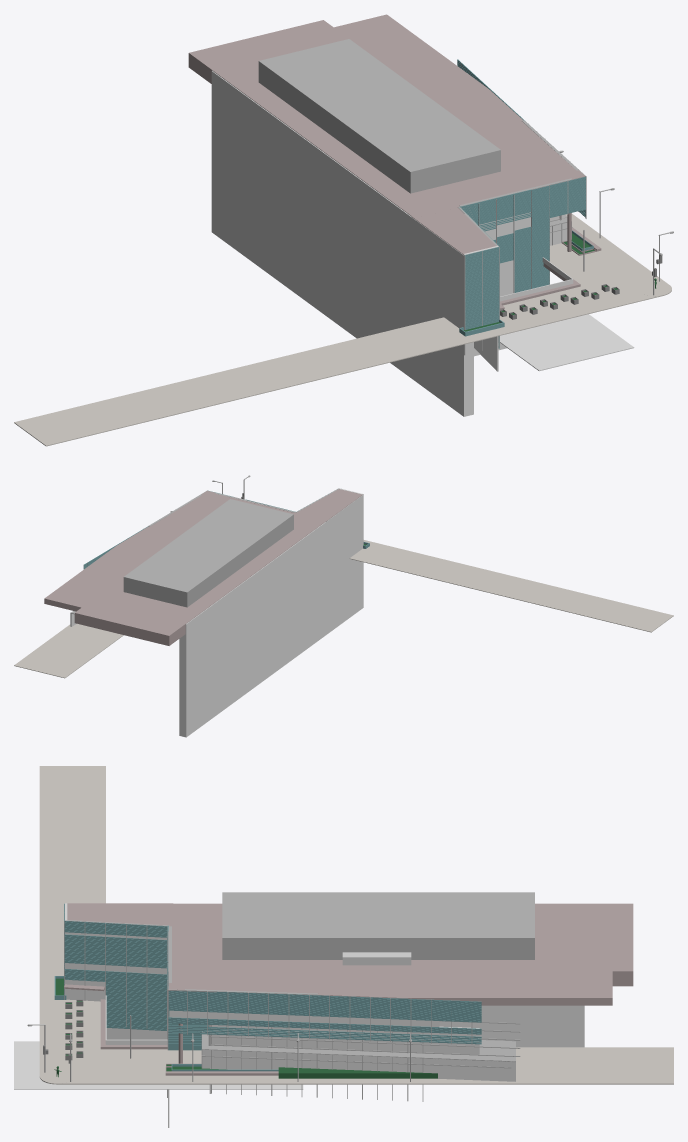
Rendered from banq01 (1).fbx.
The picture shows the model from 3 angles, top to bottom: view 1: azimuth 30°, elevation 25°; view 2: azimuth 150°, elevation 25°; view 3: azimuth 270°, elevation 25°; orthographic projection. The views are drawn at different scales.
Parts seen in each view (by area): view 1: Cube.085, Cube.065, Cube, Cube.019, Cube.022, Cube.021, Cube.001, Cube.027, Cube.018, Cube.041, Cube.031, Cube.053 (+1 smaller); view 2: Cube.085, Cube.065, Cube, Cube.019, Cube.022, Cube.001, Cube.018; view 3: Cube.065, Cube, Cube.019, Cube.001, Cube.022, Cube.048, Cube.068, Cube.085, Cube.055, Cube.026, Cube.025, Cube.021 (+15 smaller).
Boxes of the visible parts, bbox=[...] form: Cube.085: bbox=[211, 70, 473, 416]; Cube.065: bbox=[258, 39, 500, 193]; Cube: bbox=[14, 287, 664, 446]; Cube.019: bbox=[188, 20, 549, 217]; Cube.022: bbox=[334, 14, 585, 185]; Cube.021: bbox=[500, 314, 634, 371]; Cube.001: bbox=[550, 213, 667, 302]; Cube.027: bbox=[464, 247, 499, 329]; Cube.018: bbox=[412, 207, 495, 254]; Cube.041: bbox=[532, 185, 549, 288]; Cube.031: bbox=[459, 189, 531, 224]; Cube.053: bbox=[474, 212, 530, 356]; Cube.085: bbox=[179, 494, 363, 737]; Cube.065: bbox=[123, 499, 293, 607]; Cube: bbox=[349, 540, 673, 632]; Cube.019: bbox=[74, 497, 327, 645]; Cube.022: bbox=[44, 490, 231, 611]; Cube.001: bbox=[14, 623, 123, 678]; Cube.018: bbox=[297, 489, 362, 521]; Cube.065: bbox=[222, 892, 534, 959]; Cube: bbox=[39, 766, 105, 1077]; Cube.019: bbox=[168, 903, 633, 986]; Cube.001: bbox=[57, 1047, 673, 1084]; Cube.022: bbox=[168, 971, 612, 1005]; Cube.048: bbox=[168, 991, 481, 1022]; Cube.068: bbox=[202, 1049, 515, 1081]; Cube.085: bbox=[439, 1005, 584, 1047]; Cube.055: bbox=[210, 1025, 479, 1054]; Cube.026: bbox=[64, 968, 166, 1030]; Cube.025: bbox=[64, 934, 166, 968]; Cube.021: bbox=[14, 1041, 303, 1089].
Bounding box in the file's own units: 12783 × 3485 × 11042.
